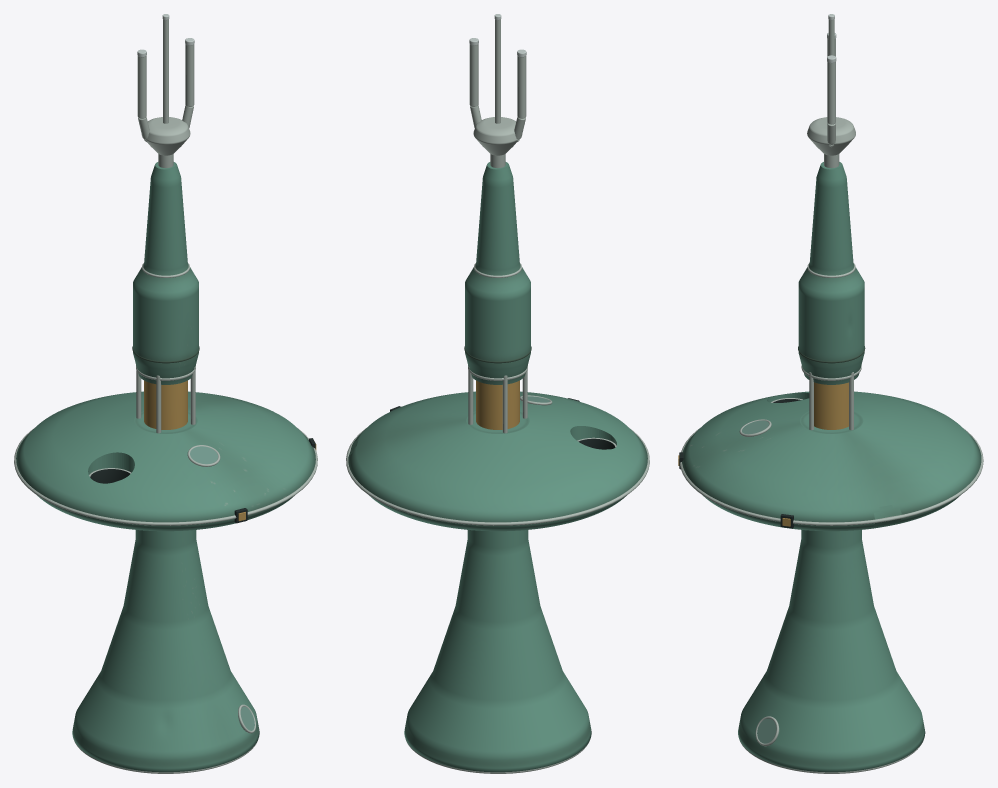
3 renders of one model, left to right at view 1: azimuth 30°, elevation 25°; view 2: azimuth 150°, elevation 25°; view 3: azimuth 270°, elevation 25°, orthographic.
Visible parts, largest first — view 1: RI07 broad laboratory saucer, RI07 flared mounting pedestal, RI07 segmented green mast, RI07 solid exposed brass neck, RI07 saucer perimeter seam, RI07 silver crown fork bowl, RI07 silver central conductor, RI07 silver outer conductor.002, RI07 silver outer conductor.005; view 2: RI07 broad laboratory saucer, RI07 flared mounting pedestal, RI07 segmented green mast, RI07 solid exposed brass neck, RI07 saucer perimeter seam, RI07 silver crown fork bowl, RI07 silver central conductor, RI07 silver outer conductor.002, RI07 silver outer conductor.005; view 3: RI07 broad laboratory saucer, RI07 flared mounting pedestal, RI07 segmented green mast, RI07 solid exposed brass neck, RI07 saucer perimeter seam, RI07 silver crown fork bowl, RI07 silver outer conductor.005.
Part boxes in pixels (x1,y1,x2,y2): RI07 broad laboratory saucer: [16, 391, 315, 531]; RI07 flared mounting pedestal: [72, 530, 259, 772]; RI07 segmented green mast: [133, 162, 198, 384]; RI07 solid exposed brass neck: [144, 380, 187, 429]; RI07 saucer perimeter seam: [14, 428, 317, 525]; RI07 silver crown fork bowl: [145, 117, 190, 155]; RI07 silver central conductor: [163, 19, 168, 123]; RI07 silver outer conductor.002: [137, 56, 146, 118]; RI07 silver outer conductor.005: [185, 44, 194, 106]; RI07 broad laboratory saucer: [348, 391, 647, 531]; RI07 flared mounting pedestal: [404, 530, 591, 772]; RI07 segmented green mast: [465, 162, 530, 384]; RI07 solid exposed brass neck: [476, 380, 519, 429]; RI07 saucer perimeter seam: [346, 428, 649, 525]; RI07 silver crown fork bowl: [473, 117, 518, 155]; RI07 silver central conductor: [495, 19, 500, 123]; RI07 silver outer conductor.002: [517, 56, 526, 118]; RI07 silver outer conductor.005: [469, 44, 478, 106]; RI07 broad laboratory saucer: [682, 391, 981, 531]; RI07 flared mounting pedestal: [738, 530, 925, 772]; RI07 segmented green mast: [798, 162, 864, 384]; RI07 solid exposed brass neck: [814, 382, 848, 429]; RI07 saucer perimeter seam: [680, 427, 983, 525]; RI07 silver crown fork bowl: [807, 117, 855, 155]; RI07 silver outer conductor.005: [827, 62, 835, 124].
Bounding box in the file's own units: 2.21 × 5.85 × 2.22.
8 materials, 2 textured.
